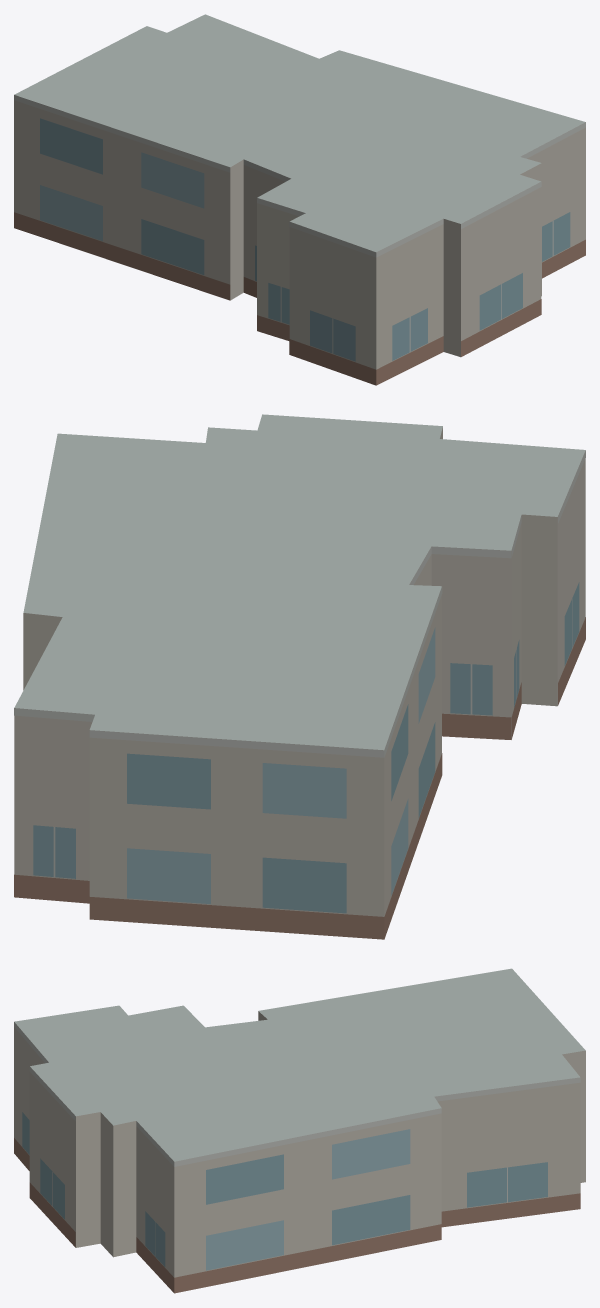
The model's file is survey-upis-32852075.glb.
3 renders of one model, top to bottom at view 1: azimuth 30°, elevation 25°; view 2: azimuth 150°, elevation 25°; view 3: azimuth 270°, elevation 25°, orthographic. The views are drawn at different scales.
Visible parts, largest first — view 1: survey-upis-32852075.tmp; view 2: survey-upis-32852075.tmp; view 3: survey-upis-32852075.tmp.
Boxes of the visible parts, <box> form: survey-upis-32852075.tmp: <box>14,14,585,385</box>; survey-upis-32852075.tmp: <box>14,414,585,939</box>; survey-upis-32852075.tmp: <box>14,968,585,1293</box>.
Size of the model in its own units: 19.21 by 6.1 by 24.02.
